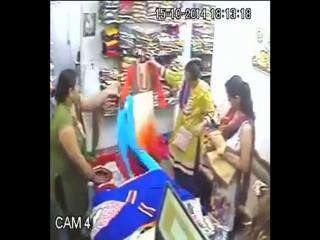Normal: (51, 69, 120, 240), (196, 75, 256, 239), (168, 58, 216, 187)
